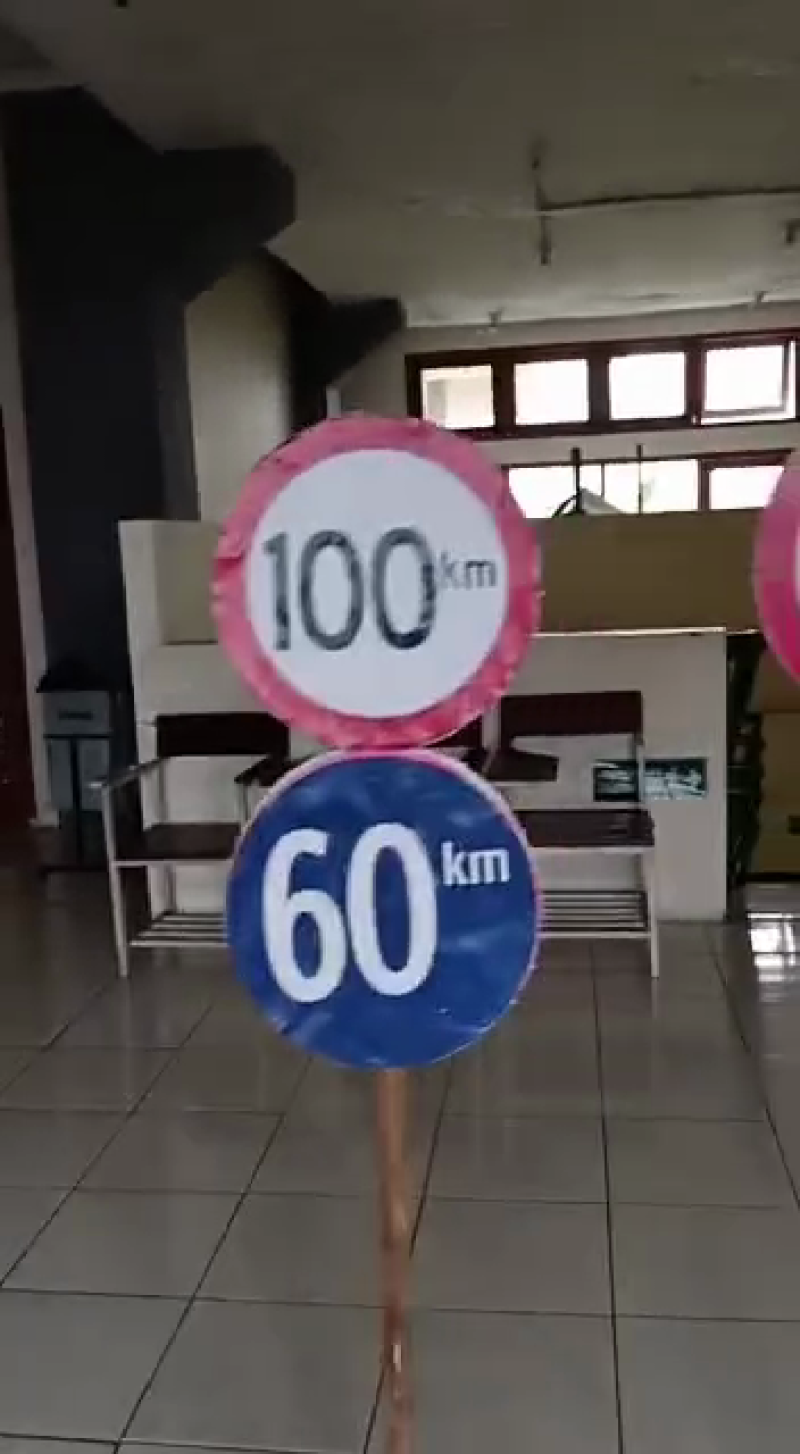batas maksimal 100kmperjam minimal 60kmperjam: (210, 400, 555, 1073)
